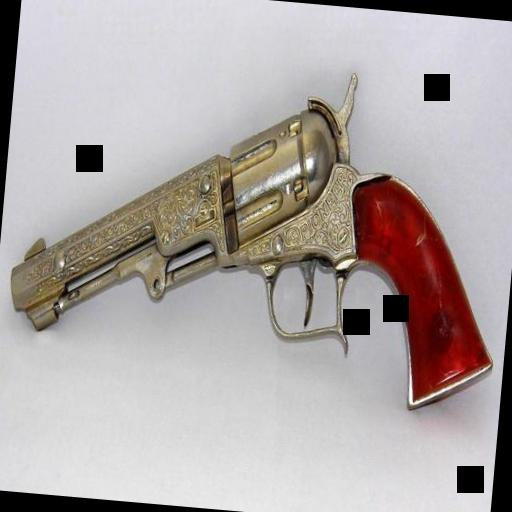Handgun: (0, 37, 512, 430)
